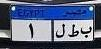1: (26, 23, 35, 39)
Taa: (68, 24, 80, 37)
baa: (80, 25, 93, 37)
laam: (55, 24, 65, 38)
